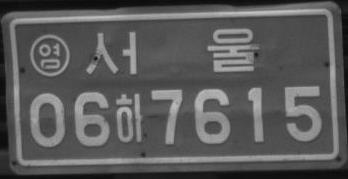0: (28, 92, 65, 148)
1: (239, 86, 275, 142)
5: (283, 85, 322, 143)
6: (193, 87, 231, 145), (73, 90, 110, 148)
7: (151, 88, 183, 144)
서울_D: (85, 27, 259, 75)
영: (30, 32, 70, 77)
하: (114, 93, 145, 143)
